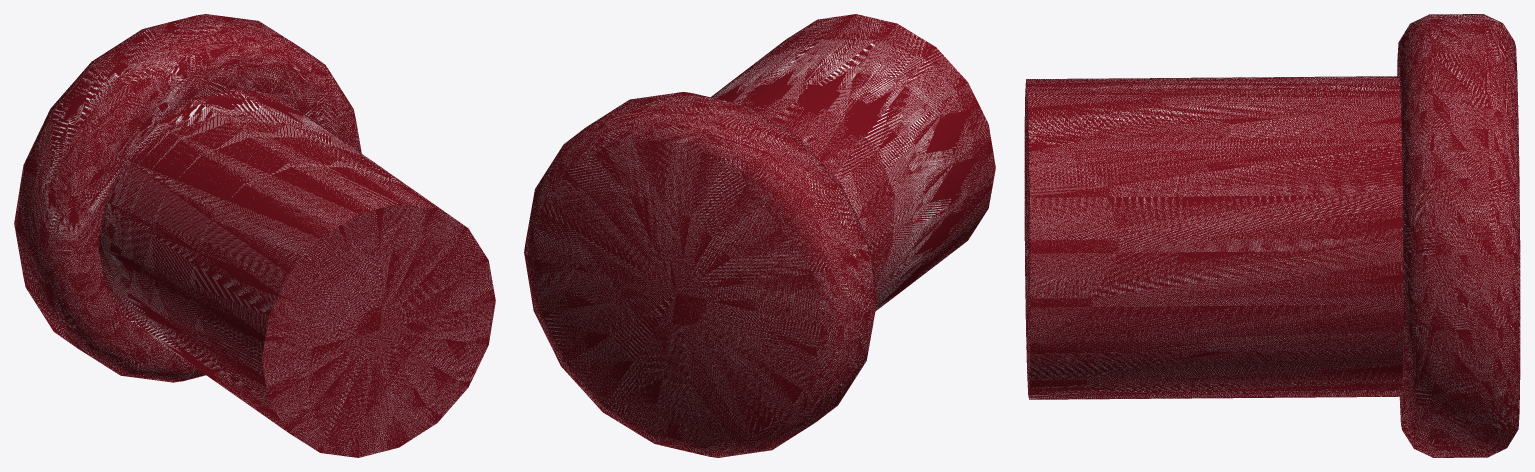
File: original-13.obj
The picture shows the model from 3 angles, left to right: view 1: azimuth 30°, elevation 25°; view 2: azimuth 150°, elevation 25°; view 3: azimuth 270°, elevation 25°; orthographic projection. The views are drawn at different scales.
Parts seen in each view (by area): view 1: mesh13/mesh13-geometry#mesh13-geometry; view 2: mesh13/mesh13-geometry#mesh13-geometry; view 3: mesh13/mesh13-geometry#mesh13-geometry.
Part boxes in pixels (bbox=[...]): mesh13/mesh13-geometry#mesh13-geometry: bbox=[14, 14, 495, 457]; mesh13/mesh13-geometry#mesh13-geometry: bbox=[524, 14, 995, 457]; mesh13/mesh13-geometry#mesh13-geometry: bbox=[1024, 14, 1520, 457].
Size of the model in its own units: 0.0387 by 0.038 by 0.043.
